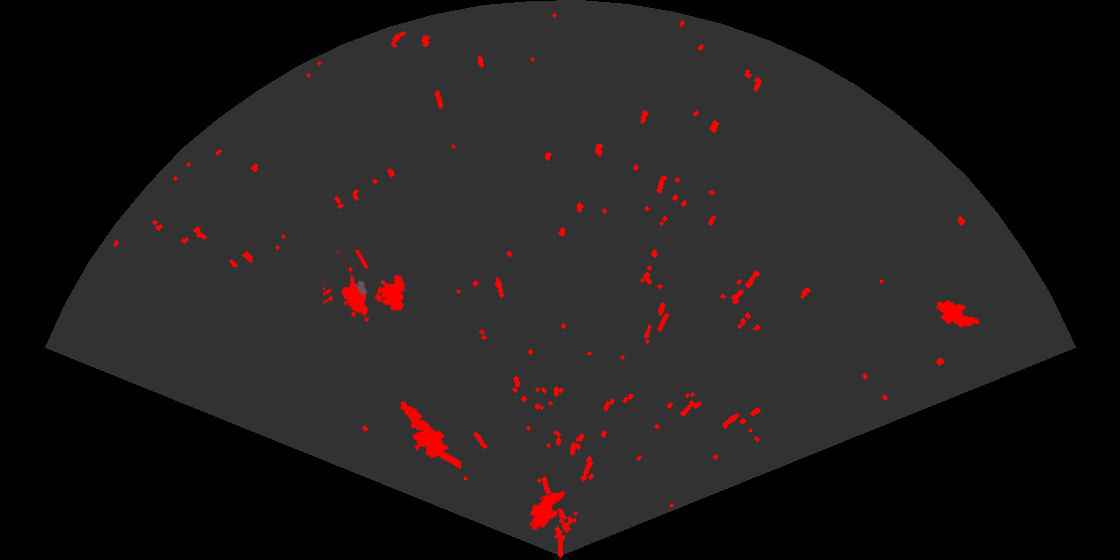AUV: (528, 489, 567, 532), (934, 299, 981, 329)
cage: (323, 250, 407, 324)
frogman: (399, 400, 461, 469)
